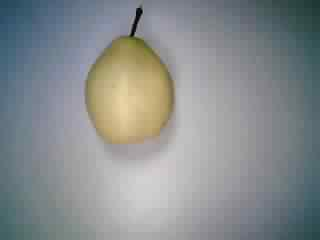pear: (69, 5, 184, 151)
